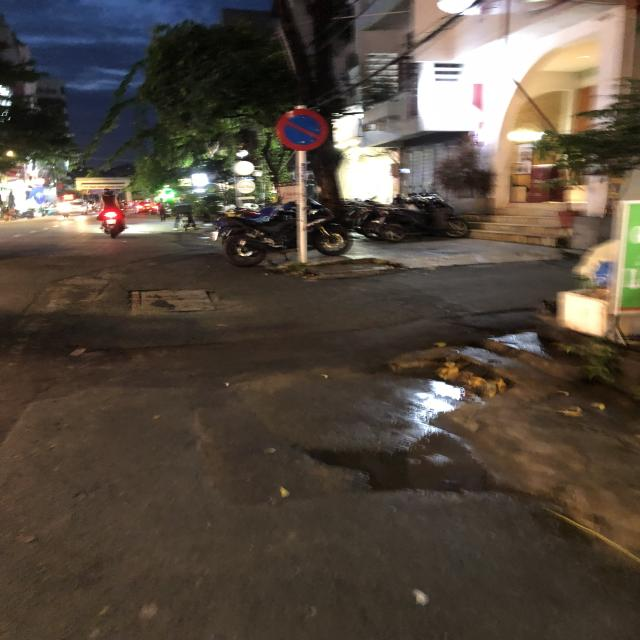Bien bao cam do xe: (271, 107, 334, 153)
